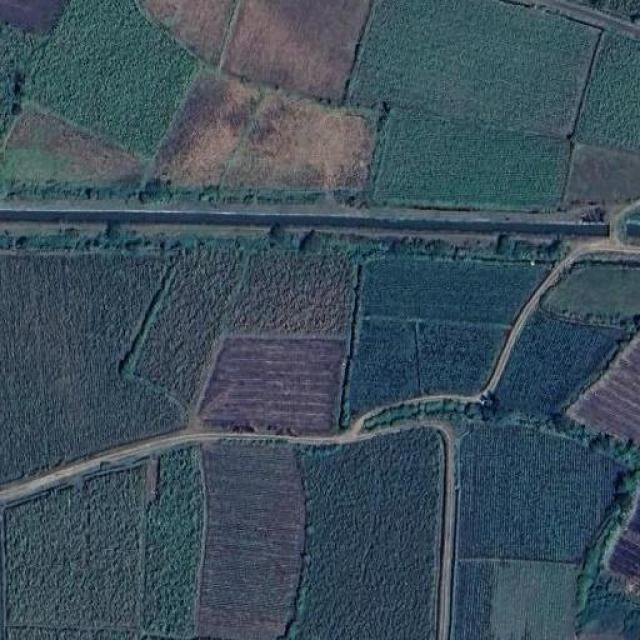land-Sx1C: (0, 252, 185, 482), (350, 0, 599, 137), (286, 429, 444, 639), (26, 0, 196, 157), (4, 467, 144, 639), (459, 426, 621, 562), (198, 445, 305, 640), (371, 111, 570, 209), (126, 250, 240, 403), (224, 0, 370, 99), (225, 95, 371, 189), (201, 339, 342, 433), (496, 312, 622, 414), (142, 446, 204, 638), (364, 258, 544, 324), (154, 72, 256, 186), (0, 109, 141, 184), (232, 251, 356, 334), (568, 332, 640, 443), (575, 31, 640, 151), (541, 262, 640, 335), (492, 561, 574, 640), (350, 322, 419, 413), (419, 322, 506, 394), (144, 0, 233, 62), (565, 145, 640, 203), (452, 561, 492, 639), (609, 494, 640, 578), (0, 0, 63, 32)
